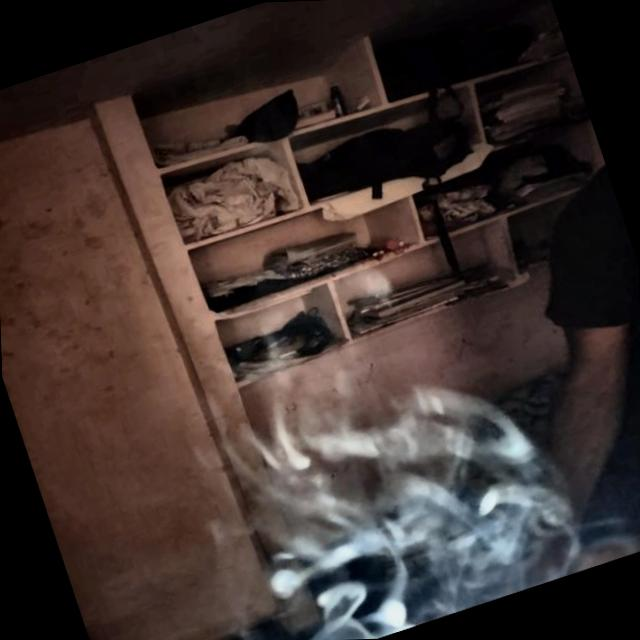smoke: (222, 333, 570, 638)
